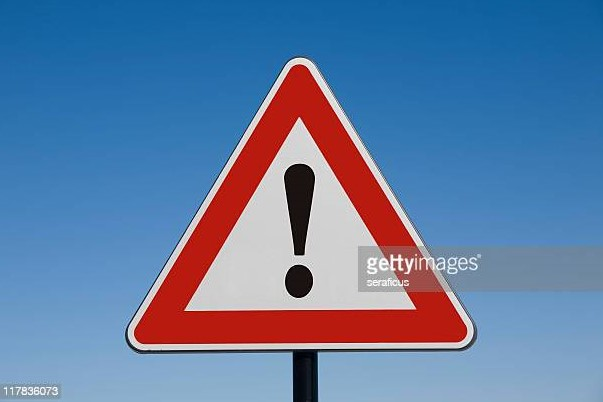Danger: (121, 51, 479, 357)
